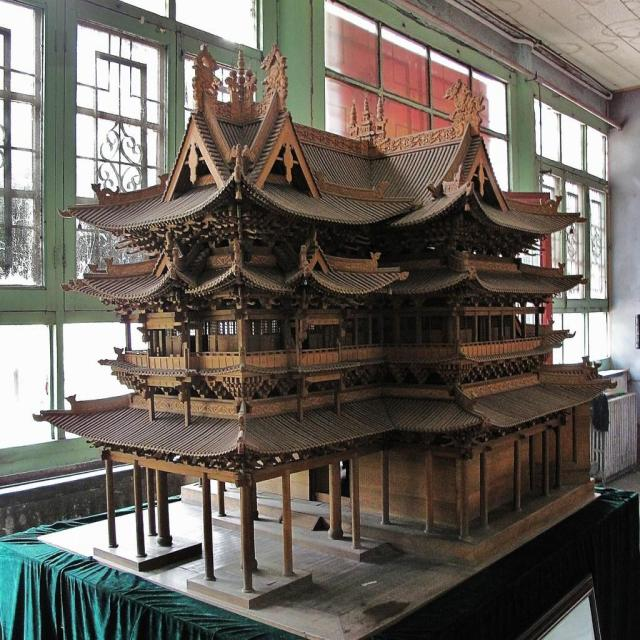table: (0, 437, 639, 639)
